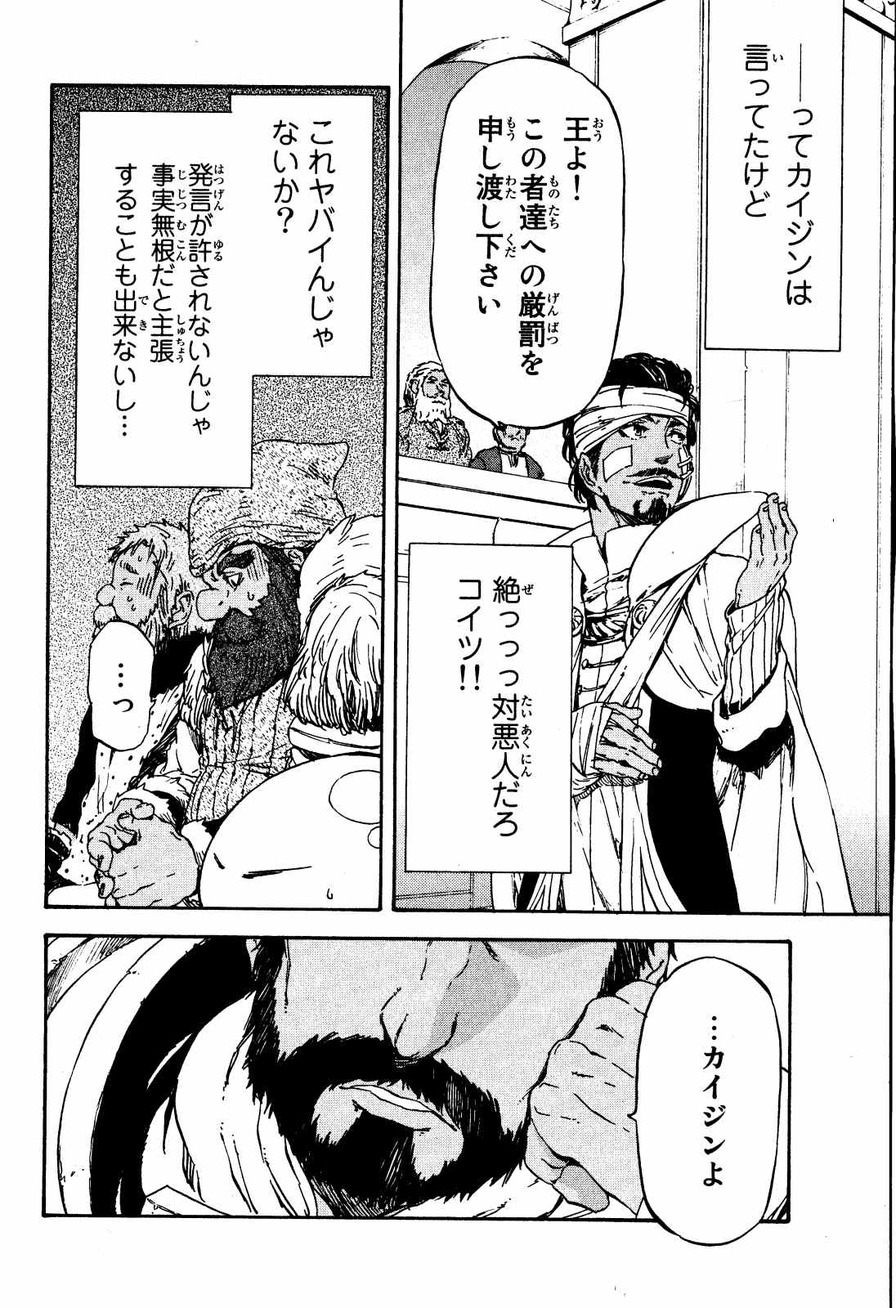bubbles: (71, 88, 380, 493), (428, 52, 636, 432), (398, 538, 578, 880), (697, 1, 849, 359), (625, 952, 791, 1250), (82, 614, 159, 757)
